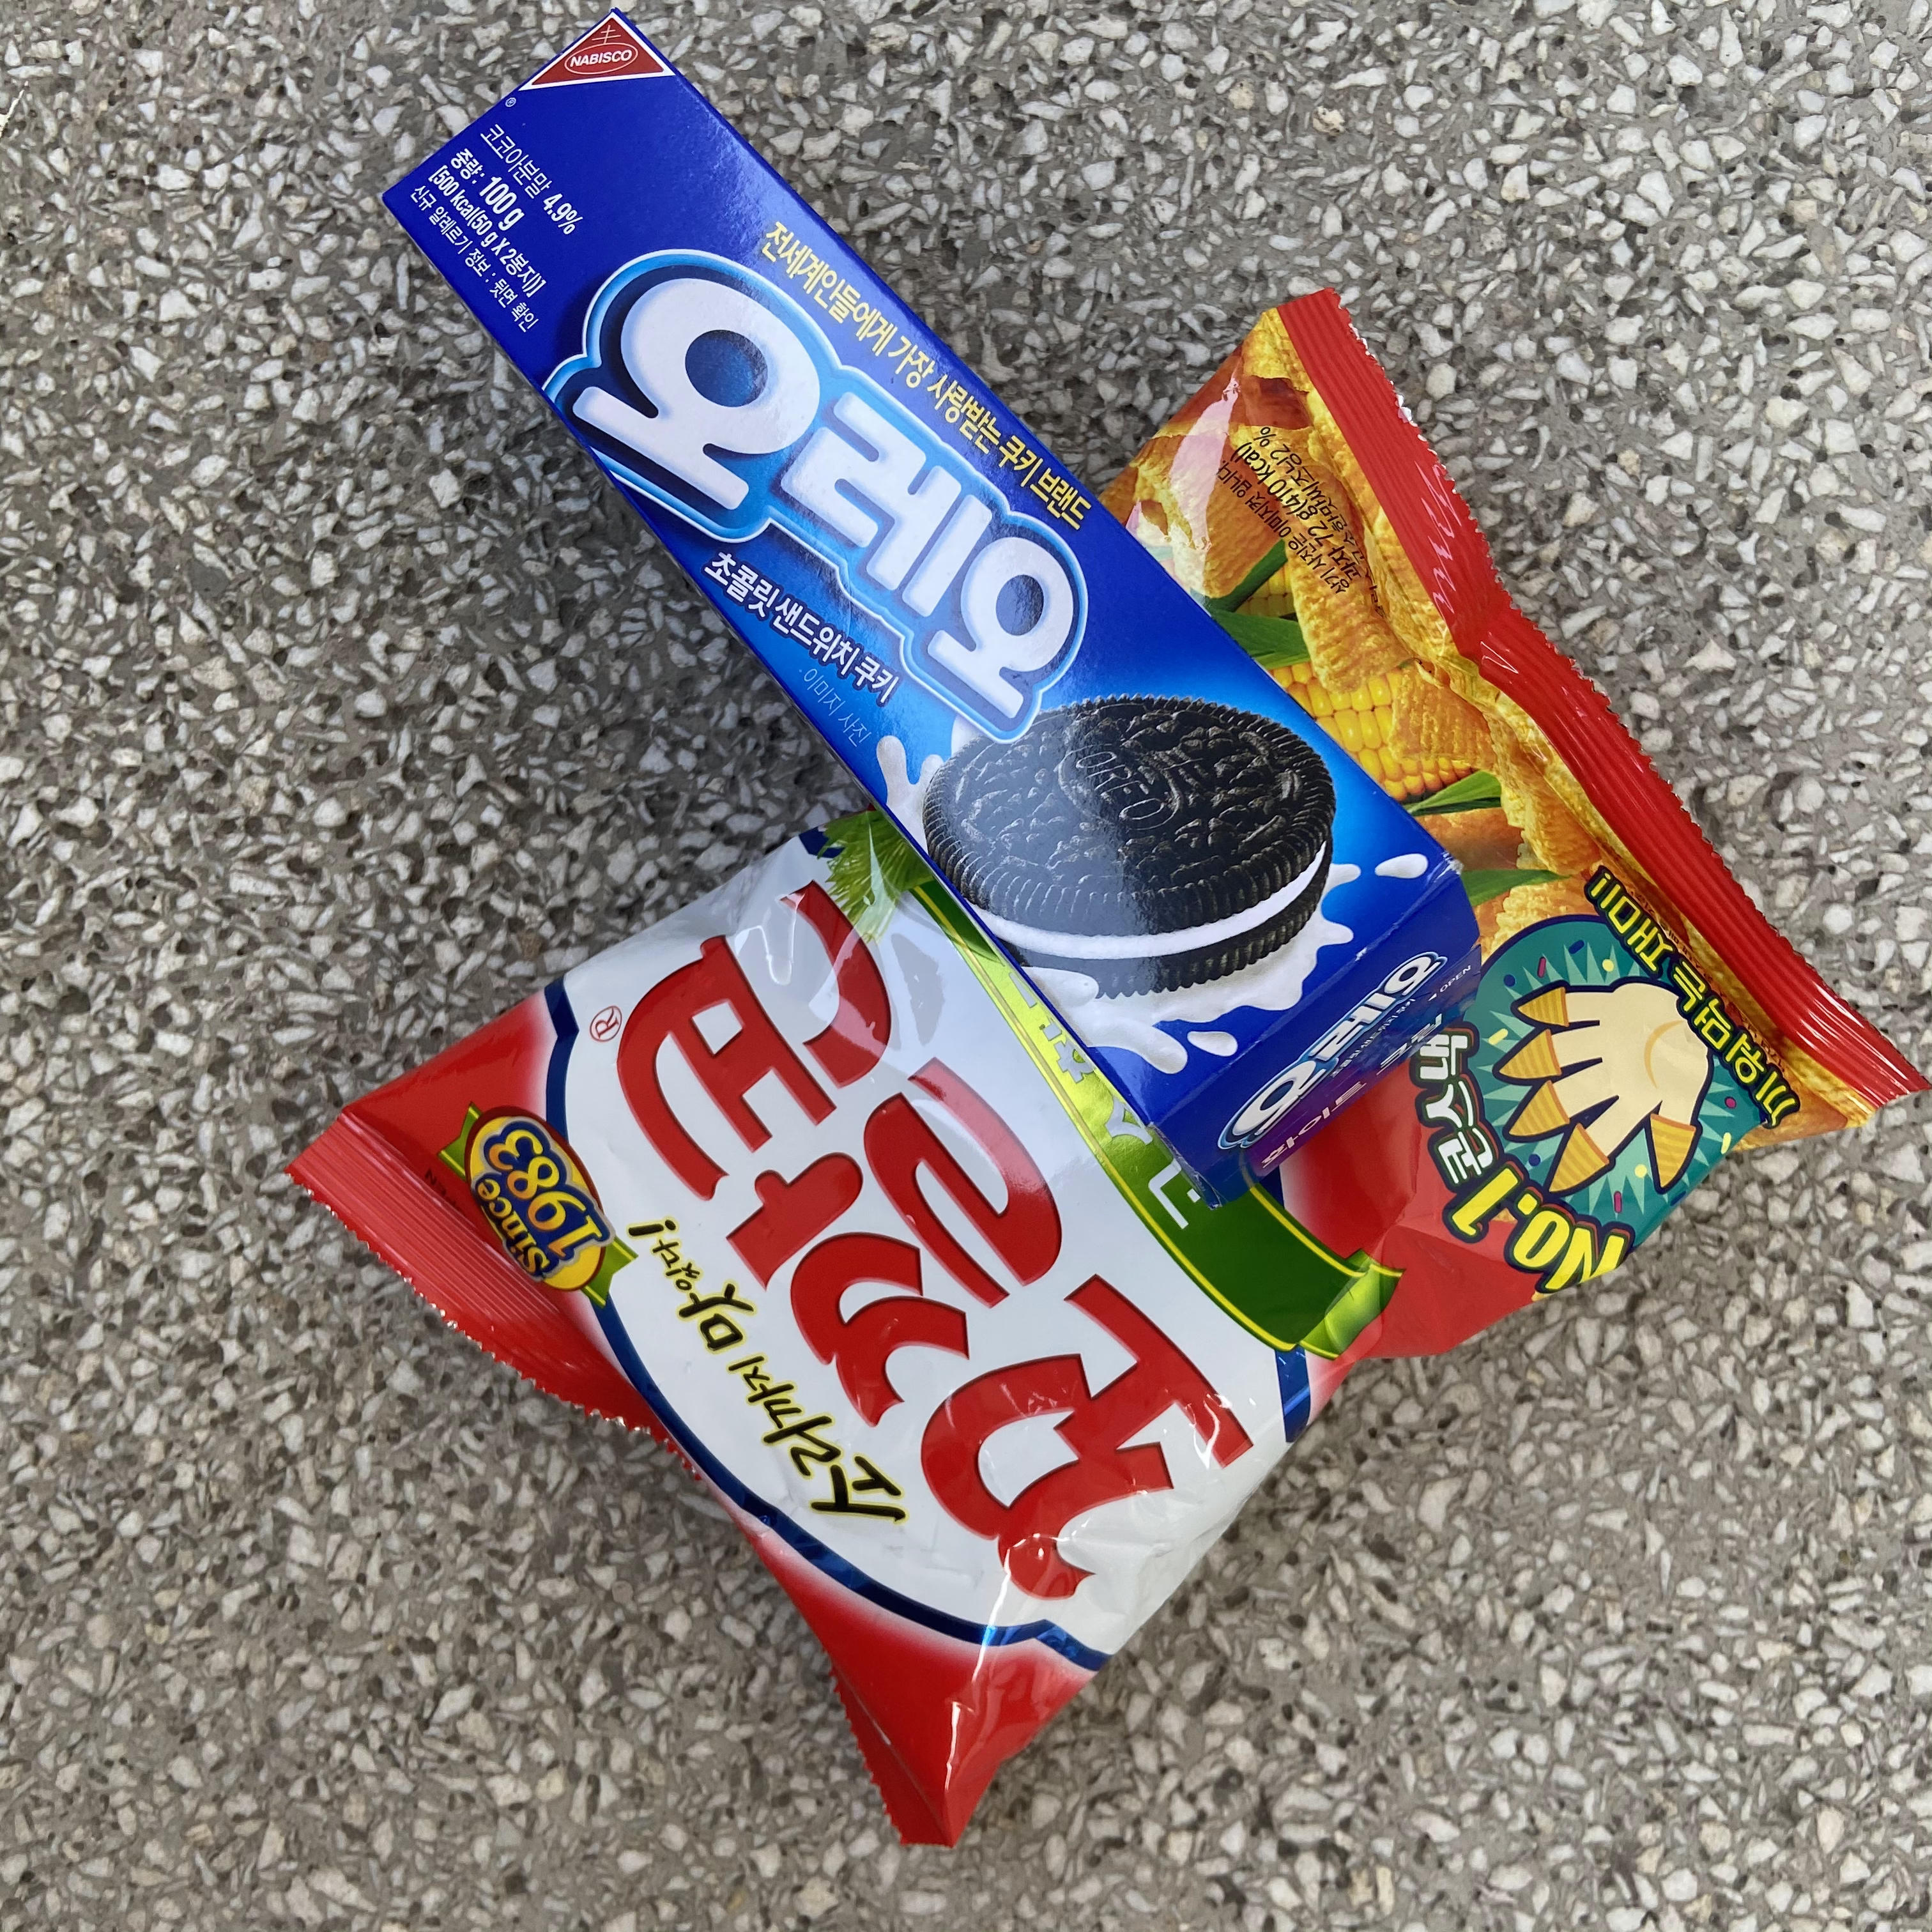ggoggalcon: (262, 283, 1932, 1847)
oreo: (364, 0, 1507, 1237)
